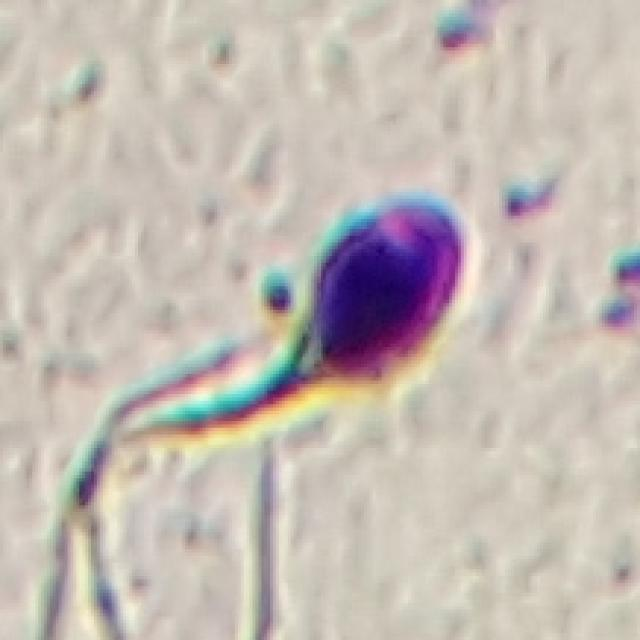normal sperm: (181, 196, 471, 439)
